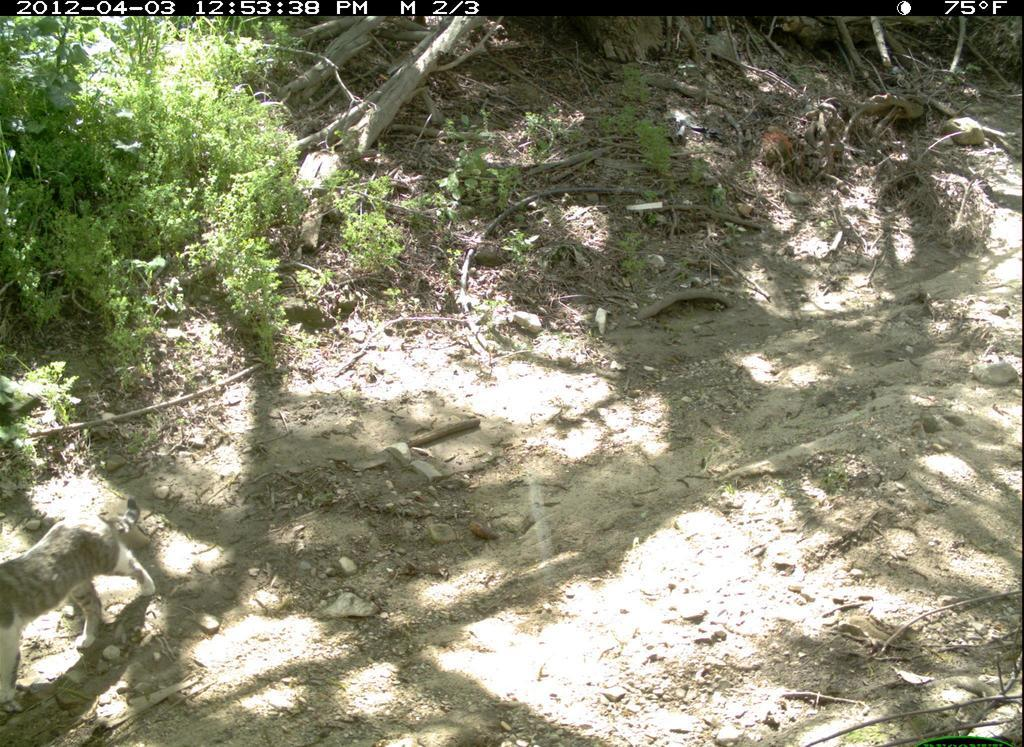cat: (2, 497, 164, 713)
